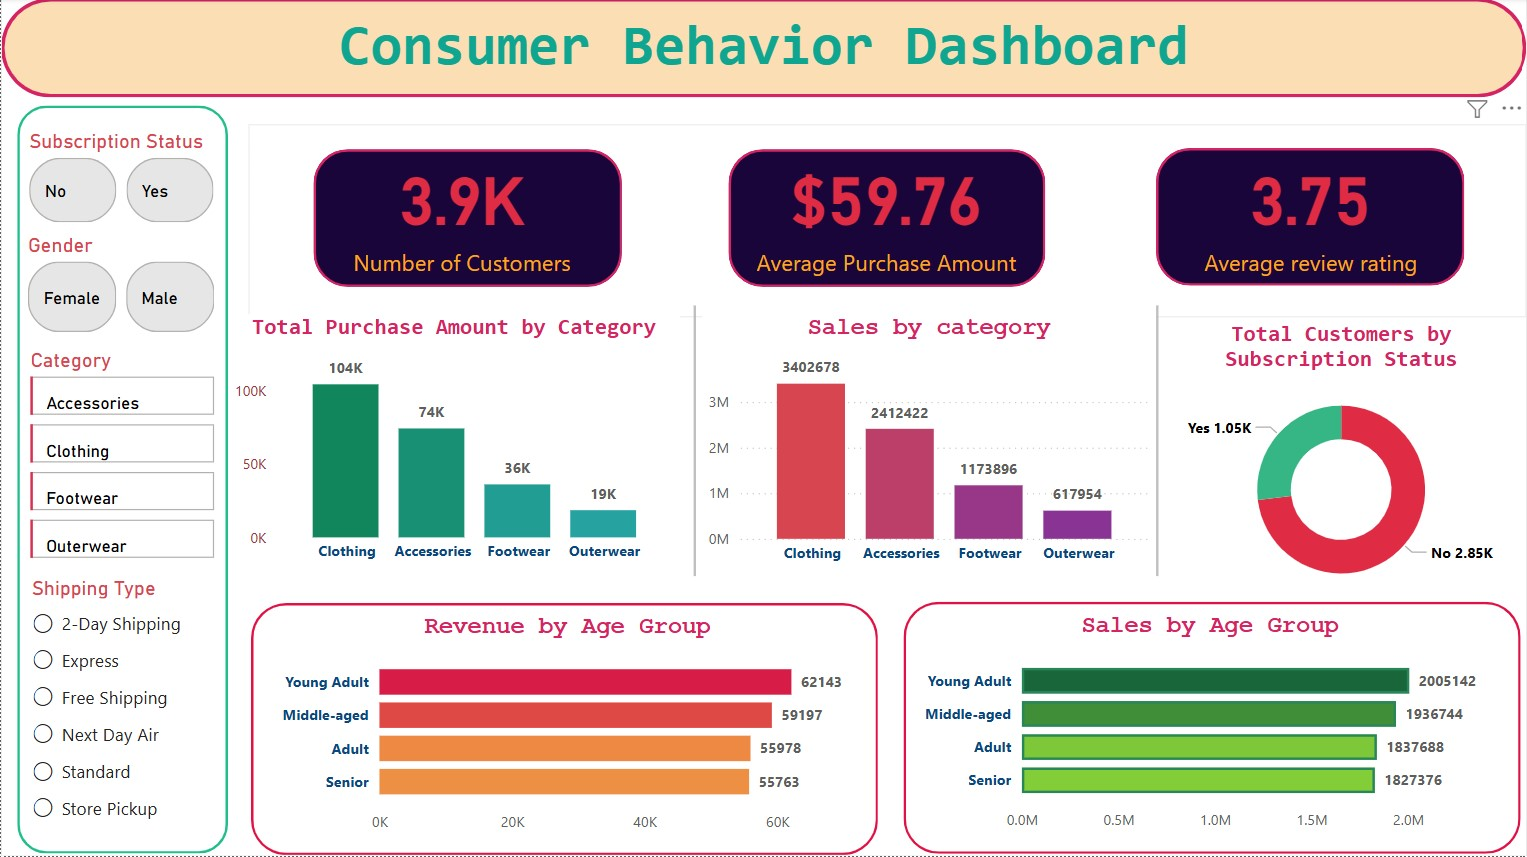

Layout of this report page (visuals, bound fields, positions):
{"tool":"powerbi","page":{"name":"Page 1","canvas":[1280,720],"ordinal":0},"visuals":[{"type":"group","id":"g1","title":"Group 1","box":[0,-40.3,1280,761],"z":0,"group":"g2"},{"type":"shape","box":[261.6,126.7,258.8,115.5],"z":1000,"group":"g1"},{"type":"shape","box":[569.2,257,25.2,226.9],"z":1000,"group":"g2"},{"type":"shape","box":[609.7,126.4,265.7,115.5],"z":2000,"group":"g1"},{"type":"shape","box":[957,257,25.2,226.9],"z":2000,"group":"g2"},{"type":"shape","box":[968.3,125.3,258.8,115.5],"z":3000,"group":"g1"},{"type":"shape","box":[14,89.9,176.7,627.4],"z":4000,"group":"g1"},{"type":"cardVisual","fields":{"Data":["public customer.Number of Customers","public customer.Average Purchase Amount","public customer.Average review rating"]},"box":[207.3,105,1072.7,162.8],"z":5000,"group":"g1"},{"type":"advancedSlicerVisual","title":"Subscription Status","fields":{"Values":["public customer.subscription_status"]},"box":[19.2,109.1,165.6,83.5],"z":6000,"group":"g1"},{"type":"shape","box":[0,0,1280,83.5],"z":7000,"group":"g1"},{"type":"shape","box":[756.5,506,517.6,211.5],"z":8000,"group":"g1"},{"type":"shape","box":[210.1,506.5,525.9,211.5],"z":9000,"group":"g1"},{"type":"advancedSlicerVisual","title":"Gender","fields":{"Values":["public customer.gender"]},"box":[18.1,196.2,167,89],"z":10000,"group":"g1"},{"type":"textbox","box":[0,5.3,1280,78.2],"z":11000,"group":"g1"},{"type":"advancedSlicerVisual","title":"Category","fields":{"Values":["public customer.category"]},"box":[20.4,292.7,164.5,183.7],"z":12000,"group":"g1"},{"type":"donutChart","title":"Total Customers by Subscription Status","fields":{"Y":["CountNonNull(public customer.customer_id)"],"Category":["public customer.subscription_status"]},"box":[969,269.9,310.9,240.8],"z":13000,"group":"g1"},{"type":"group","id":"g2","title":"Group 2","box":[0,-40.3,1280,761],"z":13006},{"type":"clusteredColumnChart","title":"Total Purchase Amount by Category","fields":{"Y":["Sum(public customer.purchase_amount)"],"Category":["public customer.category"]},"box":[190.9,265.1,378.2,217.3],"z":14000,"group":"g1"},{"type":"columnChart","title":"Sales by category","fields":{"Category":["public customer.category"],"Y":["Sum(public customer.customer_id)"]},"box":[588.4,265.1,380.6,218.5],"z":15000,"group":"g1"},{"type":"listSlicer","title":"Shipping Type","fields":{"Values":["public customer.shipping_type"]},"box":[21.1,483.7,162.8,218.4],"z":16000,"group":"g1"},{"type":"clusteredBarChart","title":"Revenue by Age Group","fields":{"Category":["public customer.age_group"],"Y":["Sum(public customer.purchase_amount)"]},"box":[229.6,514.8,491.1,193.4],"z":17000,"group":"g1"},{"type":"clusteredBarChart","title":"Sales by Age Group","fields":{"Category":["public customer.age_group"],"Y":["Sum(public customer.customer_id)"]},"box":[768.6,514.7,491.1,193.3],"z":18000,"group":"g1"}]}

Visuals, with their boxes in screenshot pixels (x1, y1, x2, y2), scaled from the page's 1280x720 canvas onto the 1527x857 screenshot:
"Group 1" group: <bbox>0, 0, 1526, 856</bbox>
shape: <bbox>312, 151, 621, 288</bbox>
shape: <bbox>679, 306, 709, 576</bbox>
shape: <bbox>727, 150, 1044, 288</bbox>
shape: <bbox>1142, 306, 1172, 576</bbox>
shape: <bbox>1155, 149, 1464, 287</bbox>
shape: <bbox>17, 107, 227, 854</bbox>
cardVisual - public customer.Number of Customers x public customer.Average Purchase Amount: <bbox>247, 125, 1526, 319</bbox>
"Subscription Status" advancedSlicerVisual: <bbox>23, 130, 220, 229</bbox>
shape: <bbox>0, 0, 1526, 99</bbox>
shape: <bbox>902, 602, 1520, 854</bbox>
shape: <bbox>251, 603, 878, 855</bbox>
"Gender" advancedSlicerVisual: <bbox>22, 234, 221, 339</bbox>
textbox: <bbox>0, 6, 1526, 99</bbox>
"Category" advancedSlicerVisual: <bbox>24, 348, 221, 567</bbox>
"Total Customers by Subscription Status" donutChart: <bbox>1156, 321, 1526, 608</bbox>
"Group 2" group: <bbox>0, 0, 1526, 856</bbox>
"Total Purchase Amount by Category" clusteredColumnChart: <bbox>228, 316, 679, 574</bbox>
"Sales by category" columnChart: <bbox>702, 316, 1156, 576</bbox>
"Shipping Type" listSlicer: <bbox>25, 576, 219, 836</bbox>
"Revenue by Age Group" clusteredBarChart: <bbox>274, 613, 860, 843</bbox>
"Sales by Age Group" clusteredBarChart: <bbox>917, 613, 1503, 843</bbox>
